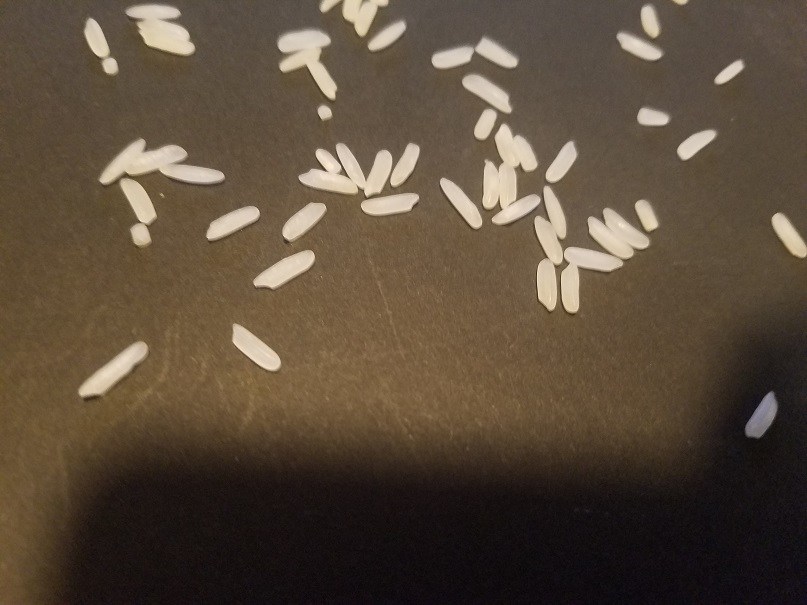egg: (76, 340, 151, 401), (250, 250, 319, 293), (229, 321, 283, 375), (96, 134, 149, 188), (278, 197, 331, 247), (122, 141, 191, 178), (582, 213, 634, 261), (601, 204, 653, 251), (202, 203, 263, 243), (439, 175, 484, 229), (115, 173, 160, 226), (460, 73, 514, 116), (742, 391, 782, 443), (297, 165, 359, 198), (615, 27, 666, 66), (489, 191, 544, 227), (158, 160, 228, 188), (770, 210, 807, 261), (563, 244, 627, 273), (530, 215, 565, 267), (675, 125, 722, 162), (475, 35, 522, 72), (359, 190, 420, 217), (389, 141, 423, 189), (305, 59, 342, 103), (539, 184, 567, 242), (334, 139, 367, 188), (544, 141, 581, 184), (367, 16, 410, 53), (364, 148, 396, 197), (141, 30, 196, 58), (278, 27, 331, 56), (137, 15, 192, 42), (80, 15, 112, 59), (536, 255, 559, 315), (278, 44, 322, 74), (492, 123, 522, 166), (431, 43, 475, 70), (712, 56, 747, 89), (514, 133, 542, 174), (561, 262, 582, 316), (125, 2, 181, 22), (636, 1, 664, 38), (482, 159, 501, 213), (634, 198, 663, 232), (471, 108, 498, 143), (499, 163, 519, 209), (313, 146, 342, 175), (633, 105, 671, 127), (131, 222, 154, 250), (99, 58, 121, 74), (319, 104, 334, 120)
